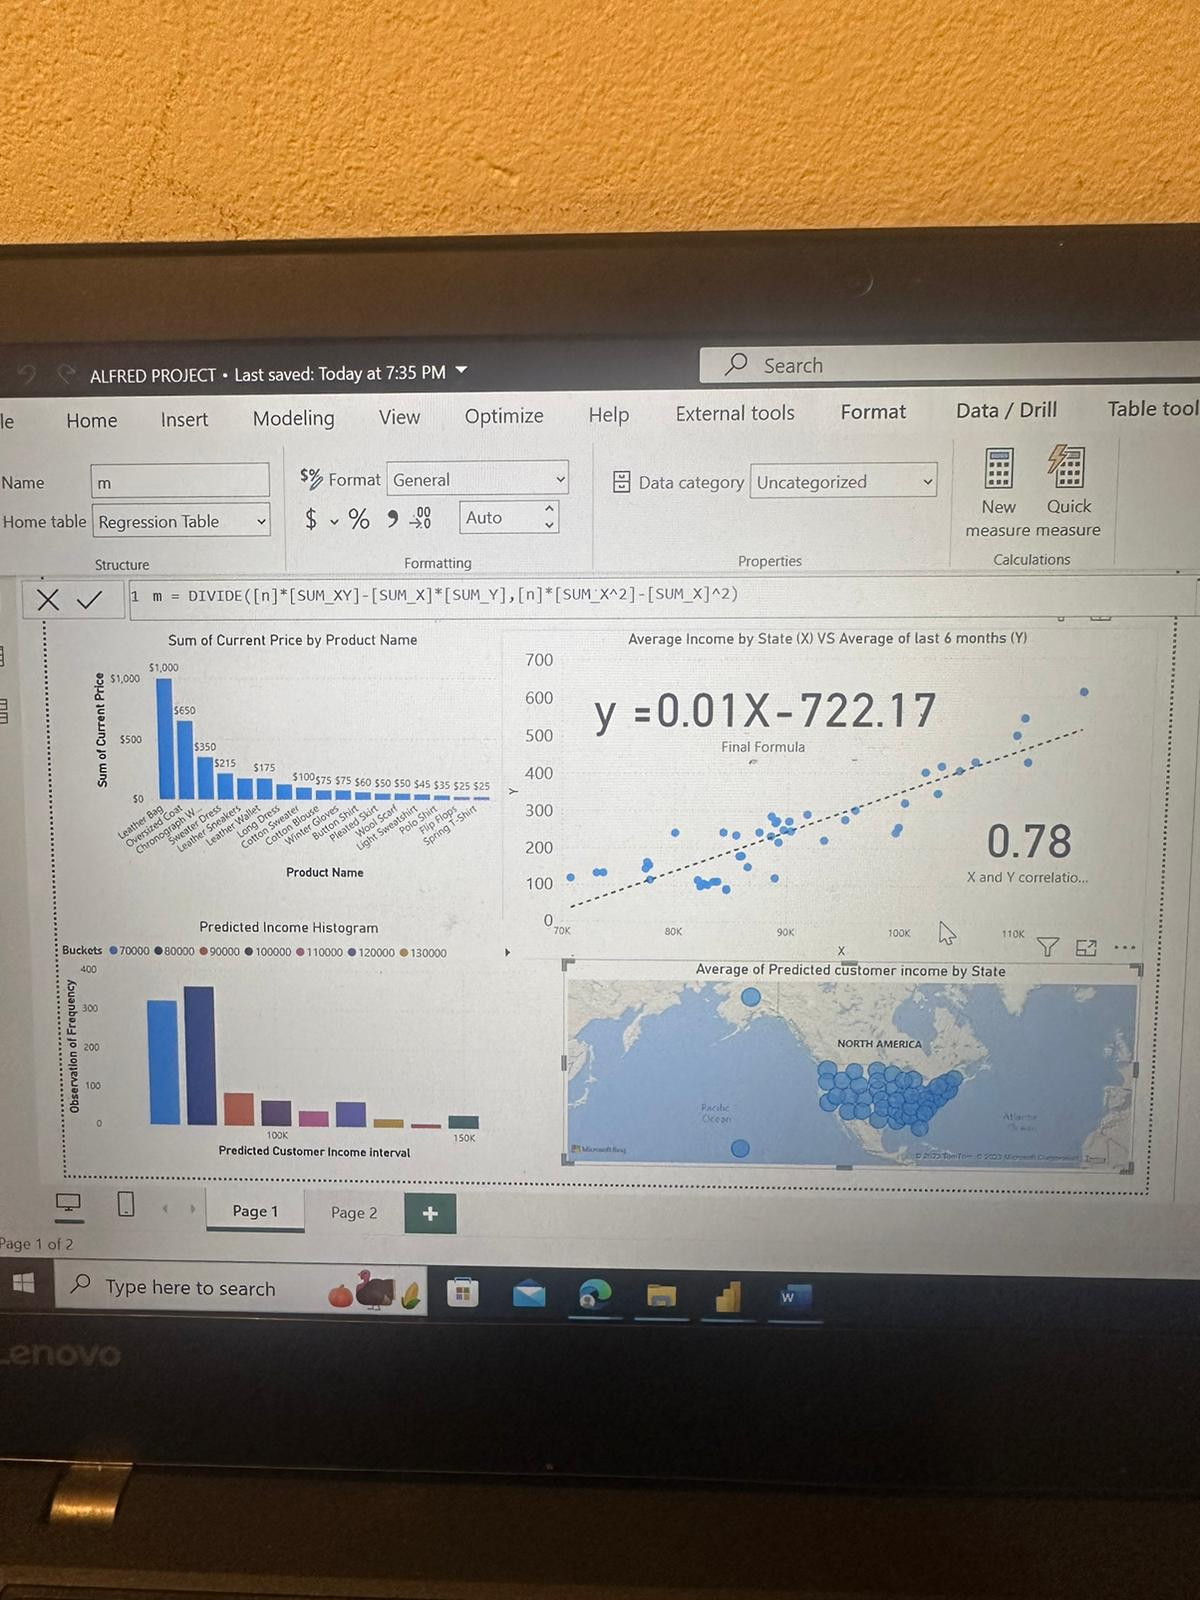

What the dashboard file says about the page in this screenshot:
{"tool":"powerbi","page":{"name":"Page 1","canvas":[1280,720],"ordinal":0},"visuals":[{"type":"scatterChart","title":"Average Income by State (X) VS  Average of last 6 months (Y)","fields":{"X":["Regression Table.X"],"Y":["Regression Table.Y"]},"box":[529.3,65.2,734.3,383],"z":0},{"type":"card","fields":{"Values":["Regression Table.Final Formula"]},"box":[600.8,106.5,454.6,106.5],"z":2},{"type":"clusteredColumnChart","fields":{"Category":["Product Inventory.Product Name"],"Y":["Product Inventory.Current Price"]},"box":[47.8,65.7,481.5,294.5],"z":3},{"type":"columnChart","title":"Predicted Income Histogram","fields":{"Category":["Customer List.Buckets"],"Series":["Customer List.Buckets"],"Y":["Incomes by State.Count of Income"]},"box":[0,402.1,554.7,295.6],"z":4},{"type":"map","fields":{"Category":["Customer List.State"],"Size":["Customer List.Predicted customer income"]},"box":[600.8,448.2,662.8,249.5],"z":5},{"type":"card","fields":{"Values":["Avg Income by State.X and Y correlation for Average Income 2"]},"box":[1055.4,257.5,149.4,103.3],"z":6}]}

Visuals, with their boxes on the page's 1280x720 design canvas (x1, y1, x2, y2). These are canvas units, not pixel positions in the 1200x1600 screenshot, which may show the page scaled, cropped or inside an application window:
"Average Income by State (X) VS  Average of last 6 months (Y)" scatterChart: bbox(529, 65, 1264, 448)
card - Regression Table.Final Formula: bbox(601, 106, 1055, 213)
clusteredColumnChart - Product Inventory.Product Name x Product Inventory.Current Price: bbox(48, 66, 529, 360)
"Predicted Income Histogram" columnChart: bbox(0, 402, 555, 698)
map - Customer List.State x Customer List.Predicted customer income: bbox(601, 448, 1264, 698)
card - Avg Income by State.X and Y correlation for Average Income 2: bbox(1055, 258, 1205, 361)
